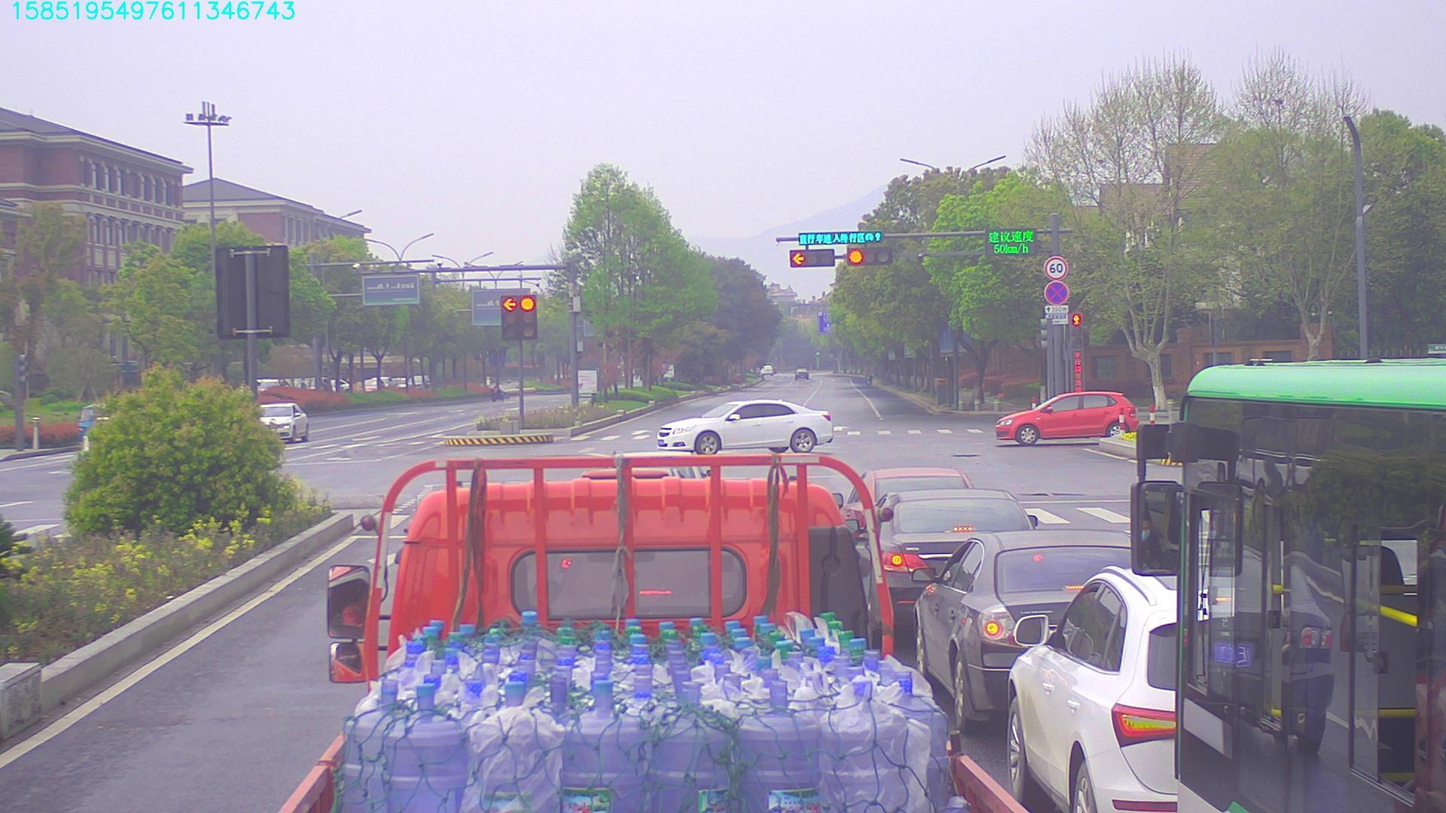red: (790, 247, 840, 266), (848, 251, 884, 264)
wait_on: (798, 228, 886, 245)
